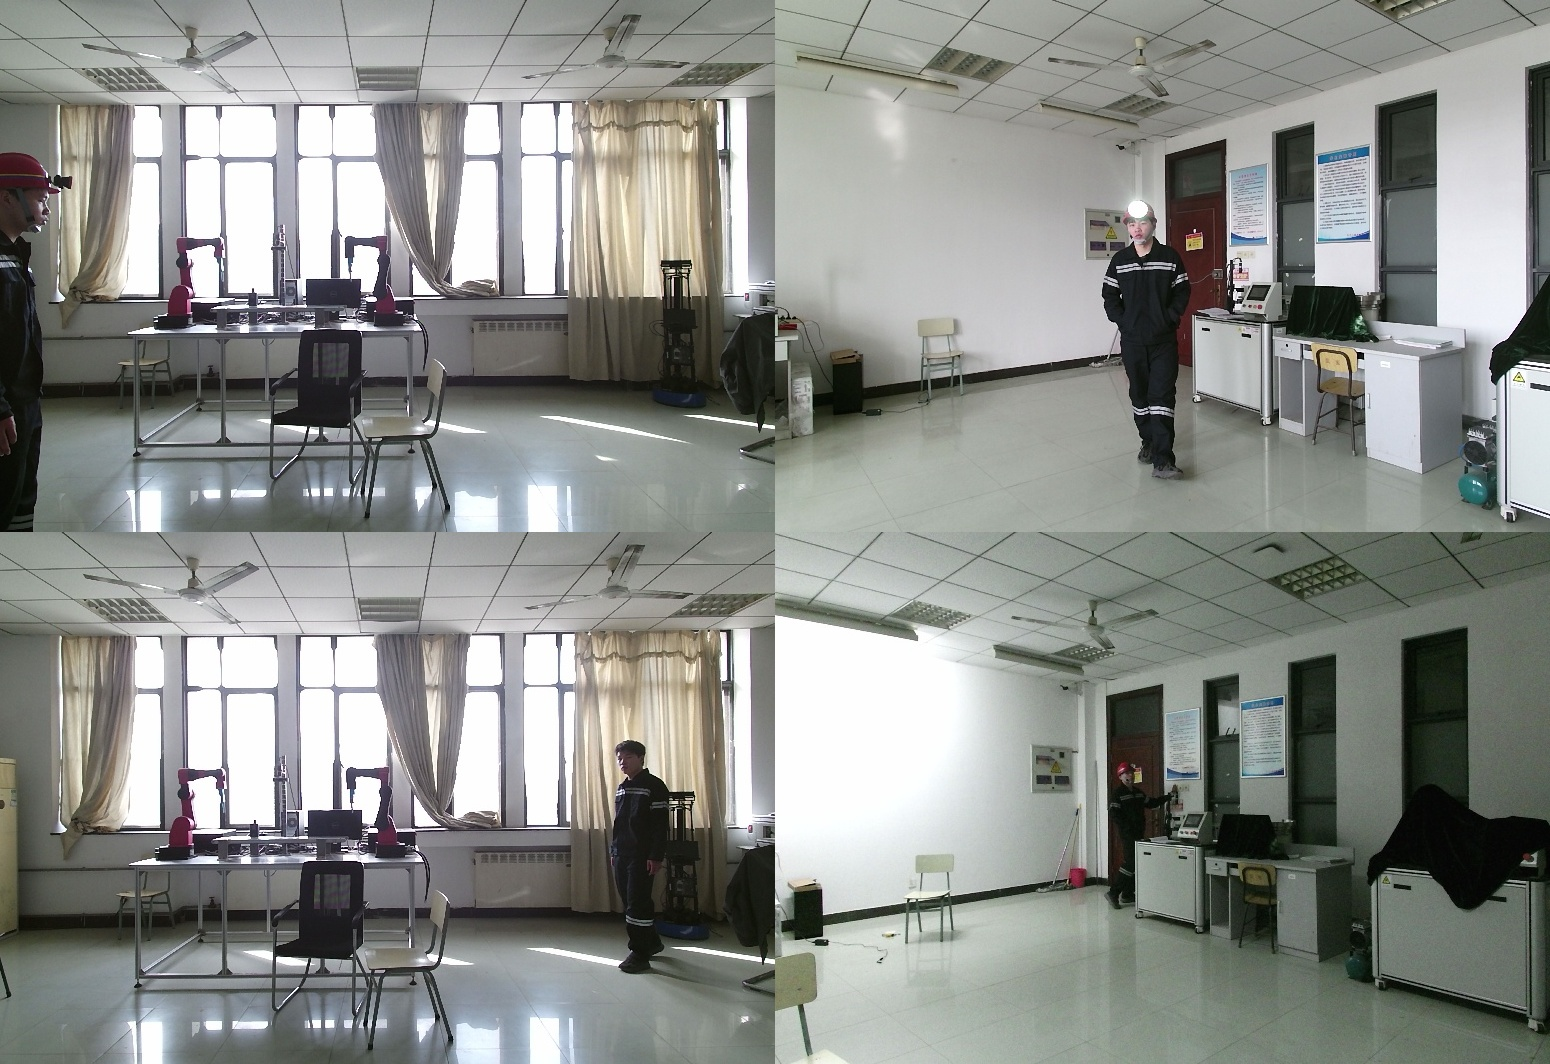person: (1, 152, 76, 532), (1100, 203, 1200, 480), (616, 742, 683, 977), (1106, 765, 1169, 914)
